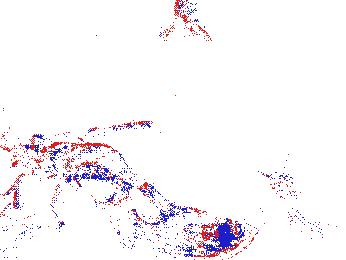X-ray fish: (135, 208, 242, 258), (1, 201, 48, 245)
glassfish: (267, 171, 346, 249)
siberian prawn: (1, 136, 178, 214)
